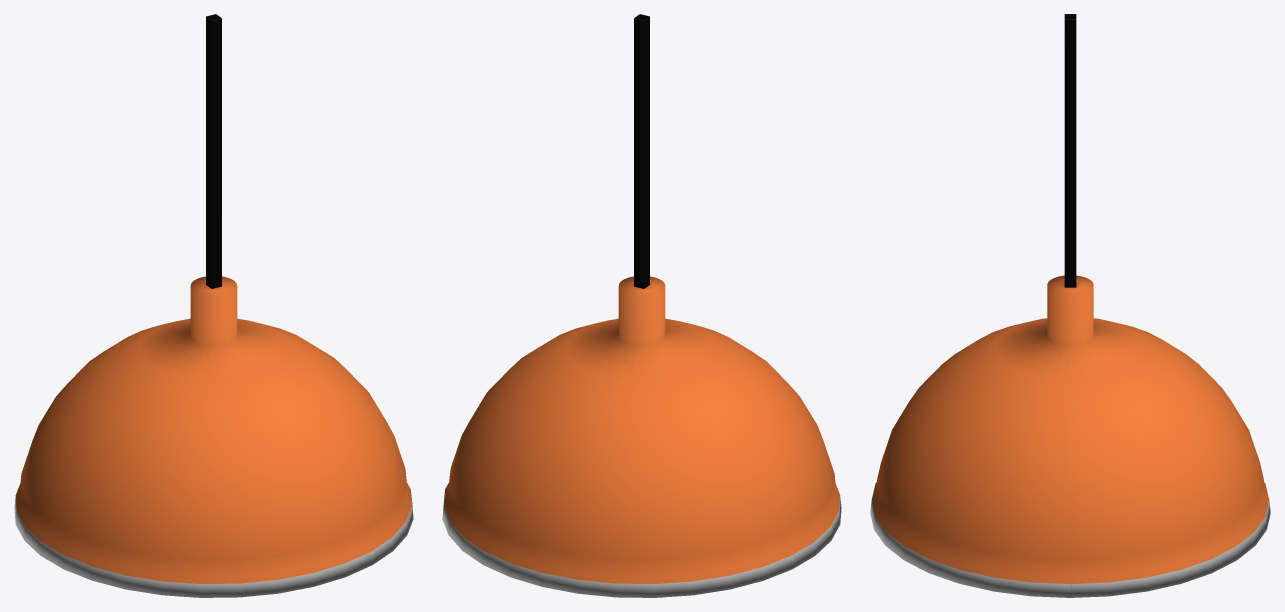
The model's file is DeckenLampe.fbx.
3 renders of one model, left to right at view 1: azimuth 30°, elevation 25°; view 2: azimuth 150°, elevation 25°; view 3: azimuth 270°, elevation 25°, orthographic.
Parts seen in each view (by area): view 1: DeckenLampe; view 2: DeckenLampe; view 3: DeckenLampe.
Part boxes in pixels (x1,y1,x2,y2): DeckenLampe: (14, 14, 413, 597); DeckenLampe: (442, 14, 841, 597); DeckenLampe: (870, 14, 1270, 597).
Size of the model in its own units: 203 by 290 by 203.
